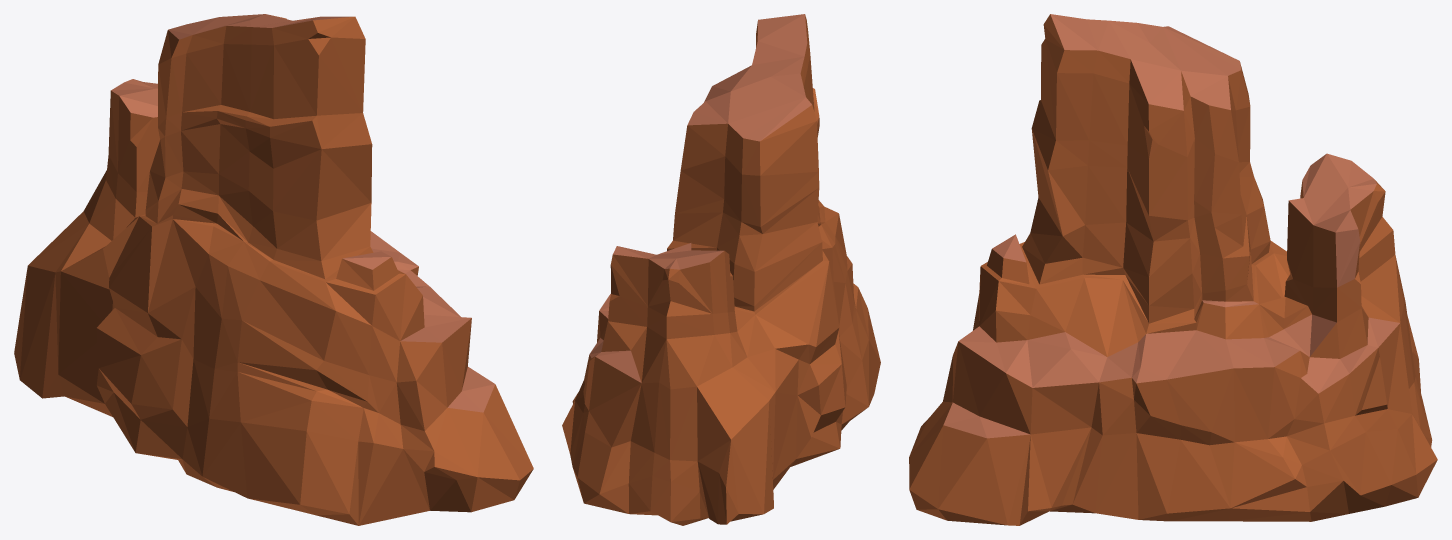
Rendered from model_rock_conyon02.fbx.
3 views of the same model, side by side, from view 1: azimuth 30°, elevation 25°; view 2: azimuth 150°, elevation 25°; view 3: azimuth 270°, elevation 25° (orthographic). The views are drawn at different scales.
Parts seen in each view (by area): view 1: model_rock_conyon02; view 2: model_rock_conyon02; view 3: model_rock_conyon02.
Boxes of the visible parts, x1,y1,x2,y2 form: model_rock_conyon02: (14,14,533,525); model_rock_conyon02: (562,14,880,525); model_rock_conyon02: (909,14,1437,525).
Size of the model in its own units: 1302 by 2060 by 2166.
Materials: 1 (1 with a texture image).
